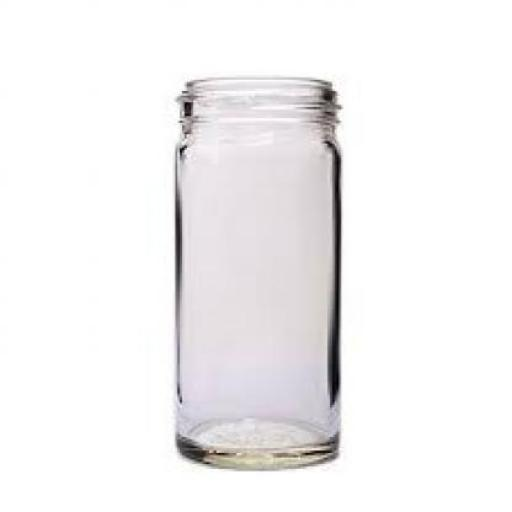glass: (173, 75, 341, 469)
